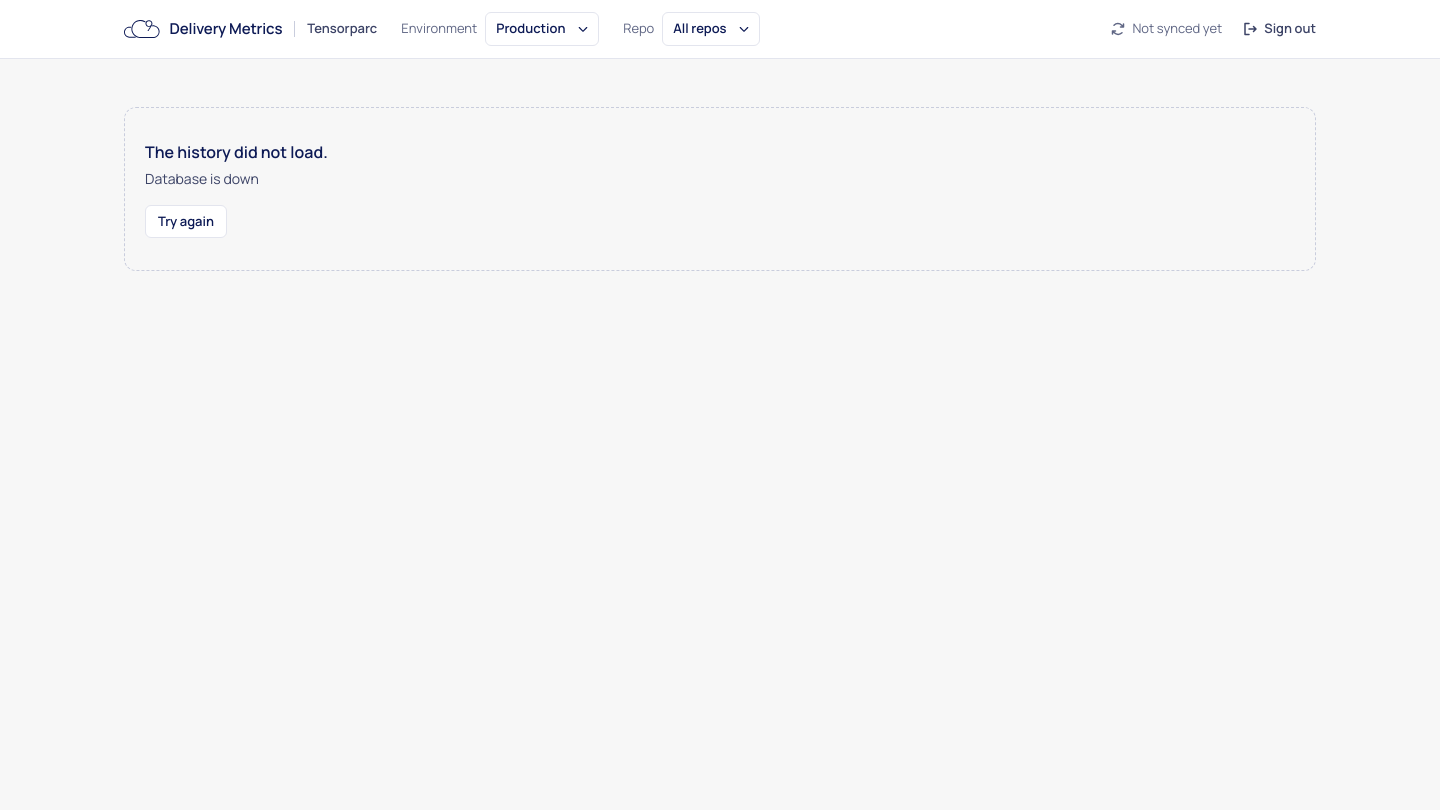
Scenario: OverviewPage › shows a skeleton while the history loads, then the error, and tries again
Later steps or results of the test are not shown.
Expected: the message shows "The history did not load.", 145,140 -> 328,162
Expected: the message shows "Database is down", 145,168 -> 259,188
Click the button "Try again".
click(186, 221)  # box 145,204 -> 227,238
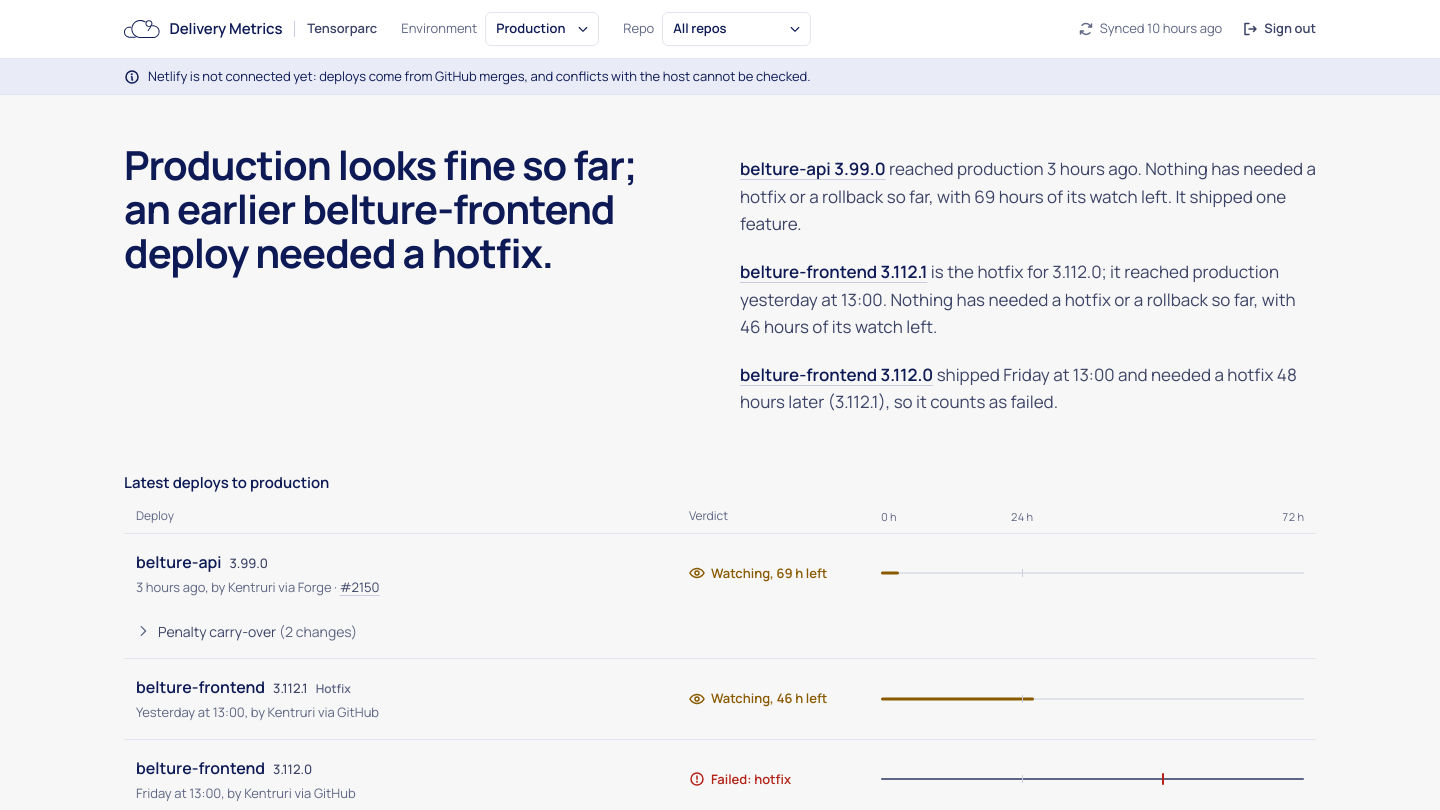
Now the heading named "Production looks fine so far; an earlier belture-frontend deploy needed a hotfix." is shown, box 124,137 -> 637,280
